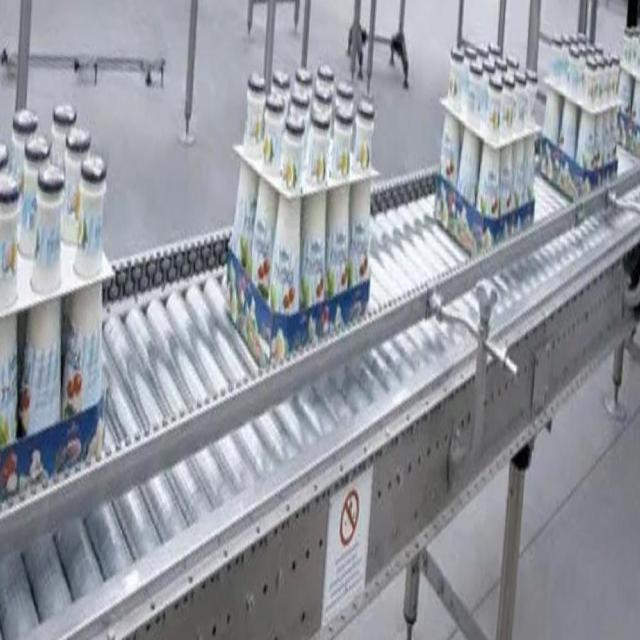bottle: (225, 62, 378, 366), (0, 94, 107, 478), (432, 35, 546, 246)
